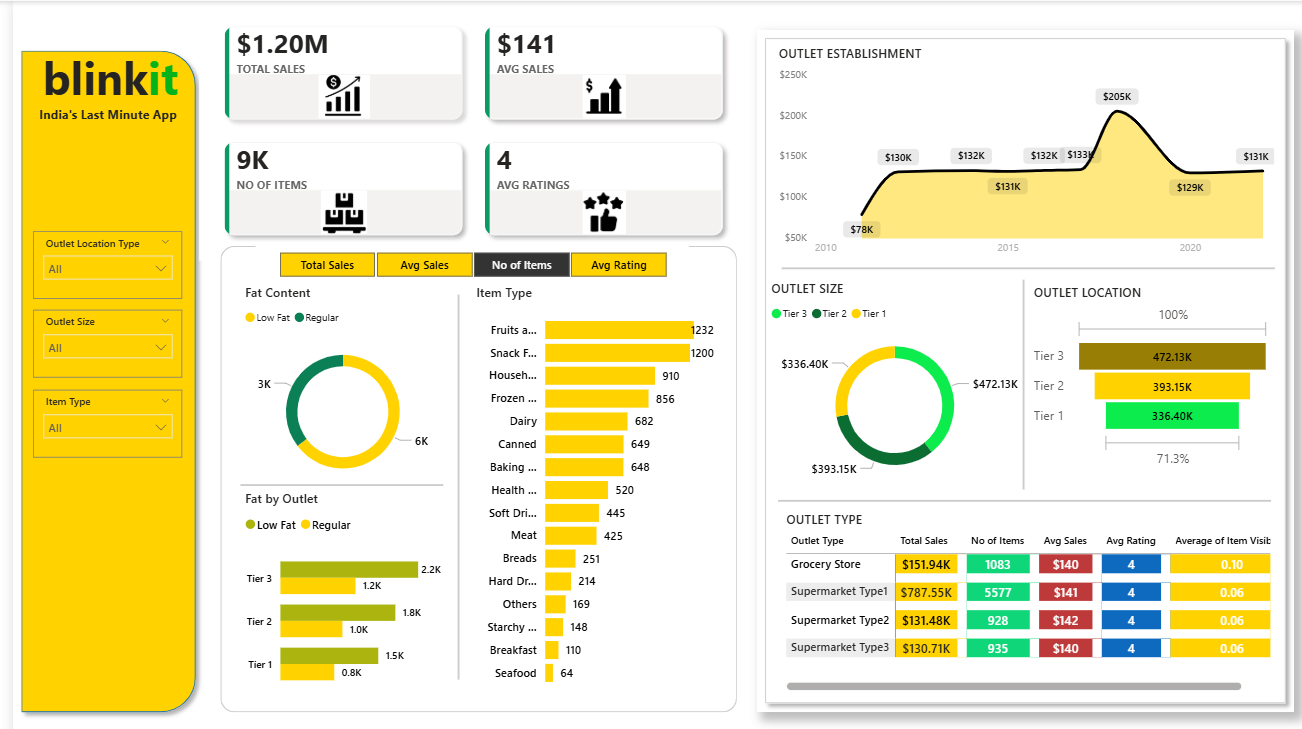

What the dashboard file says about the page in this screenshot:
{"tool":"powerbi","page":{"name":"Page 1","canvas":[1400,800],"ordinal":0},"visuals":[{"type":"shape","box":[0,43.8,205,727.5],"z":0},{"type":"textbox","box":[276.1,652.8,221.2,109.9],"z":1000},{"type":"textbox","box":[26.8,44.2,174.3,79.1],"z":2000},{"type":"textbox","box":[520.1,0,205.1,727.9],"z":3000},{"type":"textbox","box":[21.2,107.5,161.2,30],"z":4000},{"type":"cardVisual","fields":{"Data":["BlinkIT Grocery Data.Total Sales","BlinkIT Grocery Data.Avg Sales","BlinkIT Grocery Data.No of Items","BlinkIT Grocery Data.Avg Rating"]},"box":[200,0,588.8,278.8],"z":5000},{"type":"shape","box":[222.5,262.5,553.8,500],"z":6000},{"type":"shape","box":[222.5,262.5,553.8,500],"z":7000},{"type":"shape","box":[797.5,31.2,576.2,731.2],"z":8000},{"type":"donutChart","title":"Fat Content","fields":{"Y":["BlinkIT Grocery Data.No of Items"],"Category":["BlinkIT Grocery Data.Item Fat Content"]},"box":[243.8,302.5,220,230],"z":9000},{"type":"slicer","fields":{"Values":["Metrices.Metrices"]},"box":[260,262.5,465,40],"z":10000},{"type":"clusteredBarChart","title":"Fat by Outlet ","fields":{"Y":["BlinkIT Grocery Data.No of Items"],"Category":["BlinkIT Grocery Data.Outlet Location Type"],"Series":["BlinkIT Grocery Data.Item Fat Content"]},"box":[243.8,523.8,220,230],"z":11000},{"type":"shape","box":[243.8,505,217.5,27.5],"z":12000},{"type":"shape","box":[458.8,315,38.8,412.5],"z":13000},{"type":"barChart","title":" Item Type","fields":{"Y":["BlinkIT Grocery Data.No of Items"],"Category":["BlinkIT Grocery Data.Item Type"]},"box":[492.5,302.5,265,442.5],"z":14000},{"type":"lineChart","title":"OUTLET ESTABLISHMENT","fields":{"Category":["BlinkIT Grocery Data.Outlet Establishment Year"],"Y":["BlinkIT Grocery Data.Total Sales"]},"box":[816.2,47.5,541.2,235],"z":15000},{"type":"shape","box":[820,523.8,528.8,23.8],"z":16000},{"type":"donutChart","title":"OUTLET SIZE","fields":{"Y":["BlinkIT Grocery Data.Total Sales"],"Category":["BlinkIT Grocery Data.Outlet Location Type"]},"box":[808.8,298.8,275,225],"z":17000},{"type":"funnel","title":"OUTLET LOCATION","fields":{"Y":["Sum(BlinkIT Grocery Data.Sales)"],"Category":["BlinkIT Grocery Data.Outlet Location Type"]},"box":[1090,302.5,263.8,202.5],"z":18000},{"type":"shape","box":[825,275,528.8,23.8],"z":19000},{"type":"shape","box":[1065,298.8,38.8,225],"z":20000},{"type":"pivotTable","title":"OUTLET TYPE","fields":{"Rows":["BlinkIT Grocery Data.Outlet Type"],"Values":["BlinkIT Grocery Data.Total Sales","BlinkIT Grocery Data.No of Items","BlinkIT Grocery Data.Avg Sales","BlinkIT Grocery Data.Avg Rating","Avg(BlinkIT Grocery Data.Item Visibility)"]},"box":[825,547.5,528.8,197.5],"z":21000},{"type":"slicer","fields":{"Values":["BlinkIT Grocery Data.Outlet Location Type"]},"box":[21.2,246.2,160,72.5],"z":22000},{"type":"slicer","fields":{"Values":["BlinkIT Grocery Data.Outlet Size"]},"box":[21.2,331.2,160,72.5],"z":23000},{"type":"slicer","fields":{"Values":["BlinkIT Grocery Data.Item Type"]},"box":[21.2,417.5,160,72.5],"z":24000}]}

Visuals, with their boxes in screenshot pixels (x1, y1, x2, y2), scaled from the page's 1400x800 canvas onto the 1302x729 screenshot:
shape: Rect(0, 40, 191, 703)
textbox: Rect(257, 595, 462, 695)
textbox: Rect(25, 40, 187, 112)
textbox: Rect(484, 0, 674, 663)
textbox: Rect(20, 98, 170, 125)
cardVisual - BlinkIT Grocery Data.Total Sales x BlinkIT Grocery Data.Avg Sales: Rect(186, 0, 734, 254)
shape: Rect(207, 239, 722, 695)
shape: Rect(207, 239, 722, 695)
shape: Rect(742, 28, 1278, 695)
"Fat Content" donutChart: Rect(227, 276, 431, 485)
slicer - Metrices.Metrices: Rect(242, 239, 674, 276)
"Fat by Outlet " clusteredBarChart: Rect(227, 477, 431, 687)
shape: Rect(227, 460, 429, 485)
shape: Rect(427, 287, 463, 663)
" Item Type" barChart: Rect(458, 276, 704, 679)
"OUTLET ESTABLISHMENT" lineChart: Rect(759, 43, 1262, 257)
shape: Rect(763, 477, 1254, 499)
"OUTLET SIZE" donutChart: Rect(752, 272, 1008, 477)
"OUTLET LOCATION" funnel: Rect(1014, 276, 1259, 460)
shape: Rect(767, 251, 1259, 272)
shape: Rect(990, 272, 1027, 477)
"OUTLET TYPE" pivotTable: Rect(767, 499, 1259, 679)
slicer - BlinkIT Grocery Data.Outlet Location Type: Rect(20, 224, 169, 290)
slicer - BlinkIT Grocery Data.Outlet Size: Rect(20, 302, 169, 368)
slicer - BlinkIT Grocery Data.Item Type: Rect(20, 380, 169, 447)
